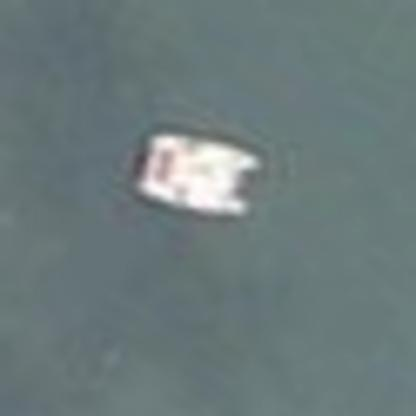ship: (106, 117, 282, 231)
